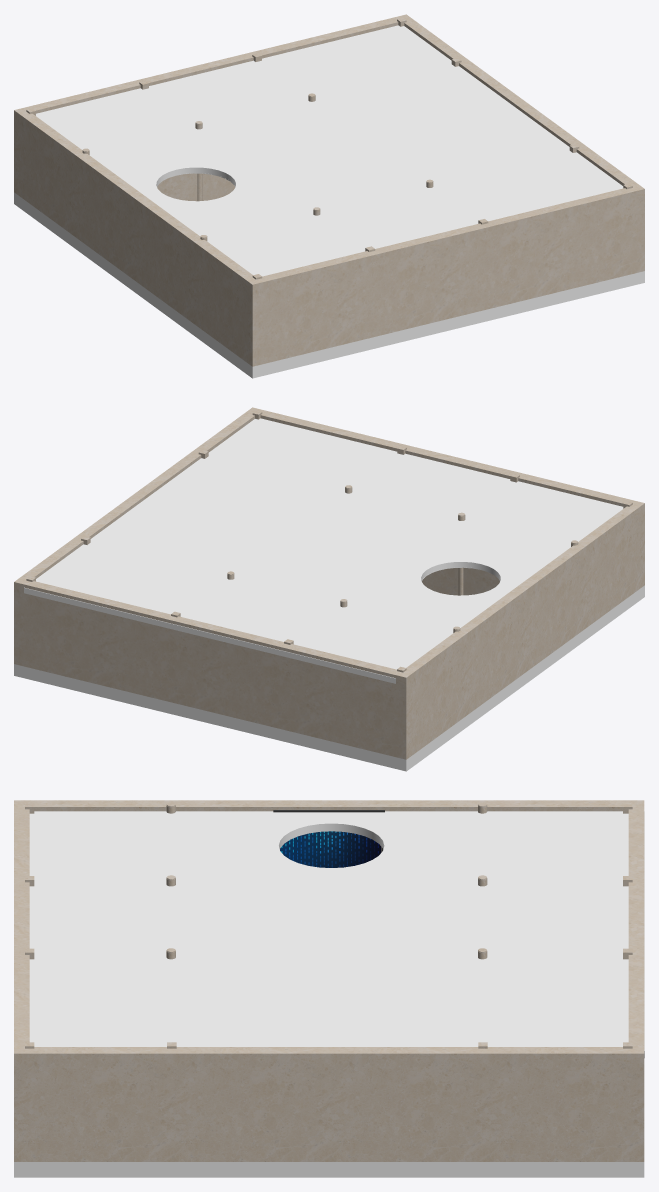
The model's file is 220217_export_01_back.gltf.
The picture shows the model from 3 angles, top to bottom: view 1: azimuth 30°, elevation 25°; view 2: azimuth 150°, elevation 25°; view 3: azimuth 270°, elevation 25°; orthographic projection. The views are drawn at different scales.
Parts seen in each view (by area): view 1: Rectangle035, Rectangle034, Rectangle006, Rectangle013, Rectangle023; view 2: Rectangle035, Rectangle034, Rectangle006, Rectangle010, Rectangle023; view 3: Rectangle035, Rectangle034, Rectangle006, Line001, Rectangle023.
Boxes of the visible parts, x1,y1,x2,y2 form: Rectangle035: (36, 25, 623, 276); Rectangle034: (14, 14, 644, 366); Rectangle006: (14, 192, 644, 378); Rectangle013: (157, 173, 235, 201); Rectangle023: (26, 18, 632, 279); Rectangle035: (24, 418, 623, 683); Rectangle034: (14, 407, 644, 759); Rectangle006: (14, 585, 644, 771); Rectangle010: (422, 567, 499, 595); Rectangle023: (26, 410, 632, 672); Rectangle035: (29, 811, 644, 1058); Rectangle034: (14, 800, 644, 1161); Rectangle006: (14, 1162, 644, 1177); Line001: (280, 831, 381, 867); Rectangle023: (25, 802, 632, 1048).
Size of the model in its own units: 38 by 8.89 by 40.04.
